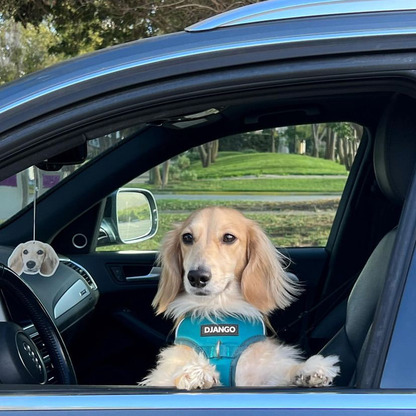dachshund: (101, 193, 362, 399)
